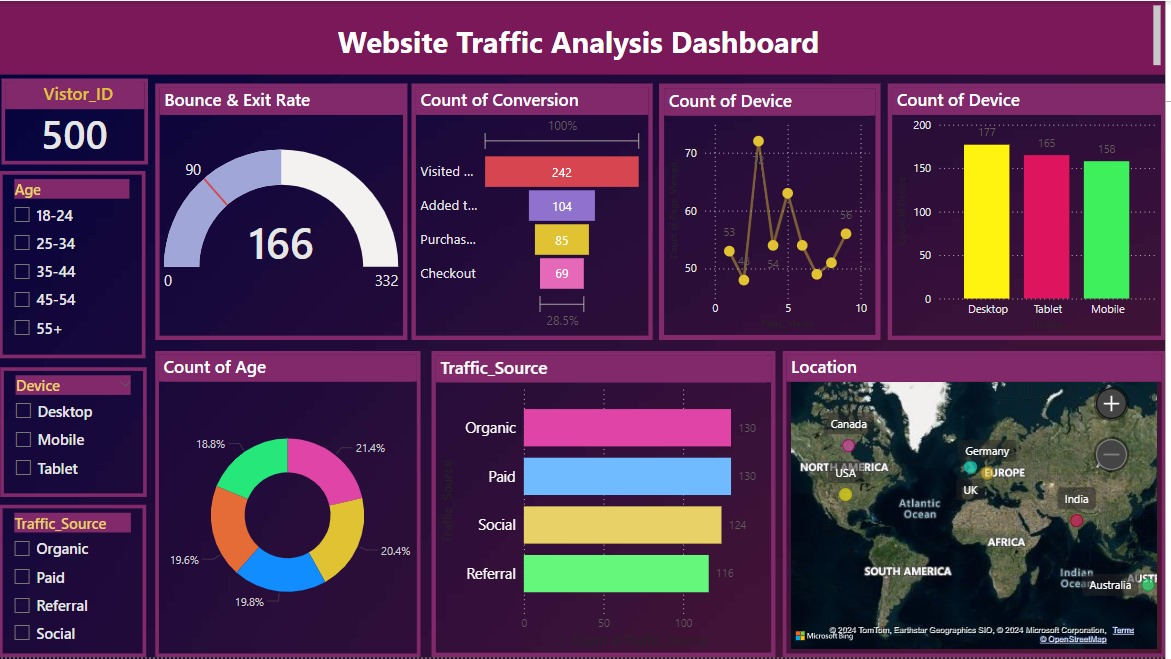

What the dashboard file says about the page in this screenshot:
{"tool":"powerbi","page":{"name":"Page 1","canvas":[1280,720],"ordinal":0},"visuals":[{"type":"textbox","box":[0,0,1280.3,81],"z":0},{"type":"donutChart","title":"Count of Age ","fields":{"Category":["sample_website_traffic_data.Age"],"Y":["CountNonNull(sample_website_traffic_data.Age)"]},"box":[171.5,384.2,290.9,336.2],"z":1000},{"type":"map","fields":{"Category":["sample_website_traffic_data.Location"]},"box":[860.4,384.2,419.9,336.2],"z":2000},{"type":"columnChart","title":"Count of Device","fields":{"Y":["CountNonNull(sample_website_traffic_data.Device)"],"Category":["sample_website_traffic_data.Device"]},"box":[975.6,90.6,304.6,281.3],"z":3000},{"type":"barChart","title":"Traffic_Source","fields":{"Category":["sample_website_traffic_data.Traffic_Source"],"Y":["CountNonNull(sample_website_traffic_data.Traffic_Source)"]},"box":[474.8,384.2,377.4,336.2],"z":4000},{"type":"slicer","fields":{"Values":["sample_website_traffic_data.Traffic_Source"]},"box":[0,553,161.9,167.4],"z":5000},{"type":"lineChart","title":"Count of Device","fields":{"Category":["sample_website_traffic_data.Page_Views"],"Y":["CountNonNull(sample_website_traffic_data.Page_Viewed)"]},"box":[724.5,90.6,242.9,281.3],"z":6000},{"type":"funnel","title":"Count of Conversion","fields":{"Y":["CountNonNull(sample_website_traffic_data.Conversion_Stage)"],"Category":["sample_website_traffic_data.Conversion_Stage"]},"box":[452.8,90.6,264.8,281.3],"z":7000},{"type":"card","title":"Vistor_ID","fields":{"Values":["CountNonNull(sample_website_traffic_data.Visitor_ID)"]},"box":[2.7,85.1,160.5,94.7],"z":8000},{"type":"slicer","fields":{"Values":["sample_website_traffic_data.Device"]},"box":[1.4,402.1,160.5,142.7],"z":10000},{"type":"slicer","fields":{"Values":["sample_website_traffic_data.Age"]},"box":[0,186.6,160.5,205.8],"z":11000},{"type":"gauge","title":"Bounce & Exit Rate","fields":{"Y":["Sum(sample_website_traffic_data.Bounce_Rate)"],"TargetValue":["Sum(sample_website_traffic_data.Exit_Rate)"]},"box":[168.8,90.6,277.2,281.3],"z":12000}]}

Visuals, with their boxes in screenshot pixels (x1, y1, x2, y2), scaled from the page's 1280x720 canvas onto the 1171x659 screenshot:
textbox: x1=0 y1=0 x2=1170 y2=74
"Count of Age " donutChart: x1=157 y1=352 x2=423 y2=658
map - sample_website_traffic_data.Location: x1=787 y1=352 x2=1170 y2=658
"Count of Device" columnChart: x1=893 y1=83 x2=1170 y2=340
"Traffic_Source" barChart: x1=434 y1=352 x2=780 y2=658
slicer - sample_website_traffic_data.Traffic_Source: x1=0 y1=506 x2=148 y2=658
"Count of Device" lineChart: x1=663 y1=83 x2=885 y2=340
"Count of Conversion" funnel: x1=414 y1=83 x2=656 y2=340
"Vistor_ID" card: x1=2 y1=78 x2=149 y2=165
slicer - sample_website_traffic_data.Device: x1=1 y1=368 x2=148 y2=499
slicer - sample_website_traffic_data.Age: x1=0 y1=171 x2=147 y2=359
"Bounce & Exit Rate" gauge: x1=154 y1=83 x2=408 y2=340
